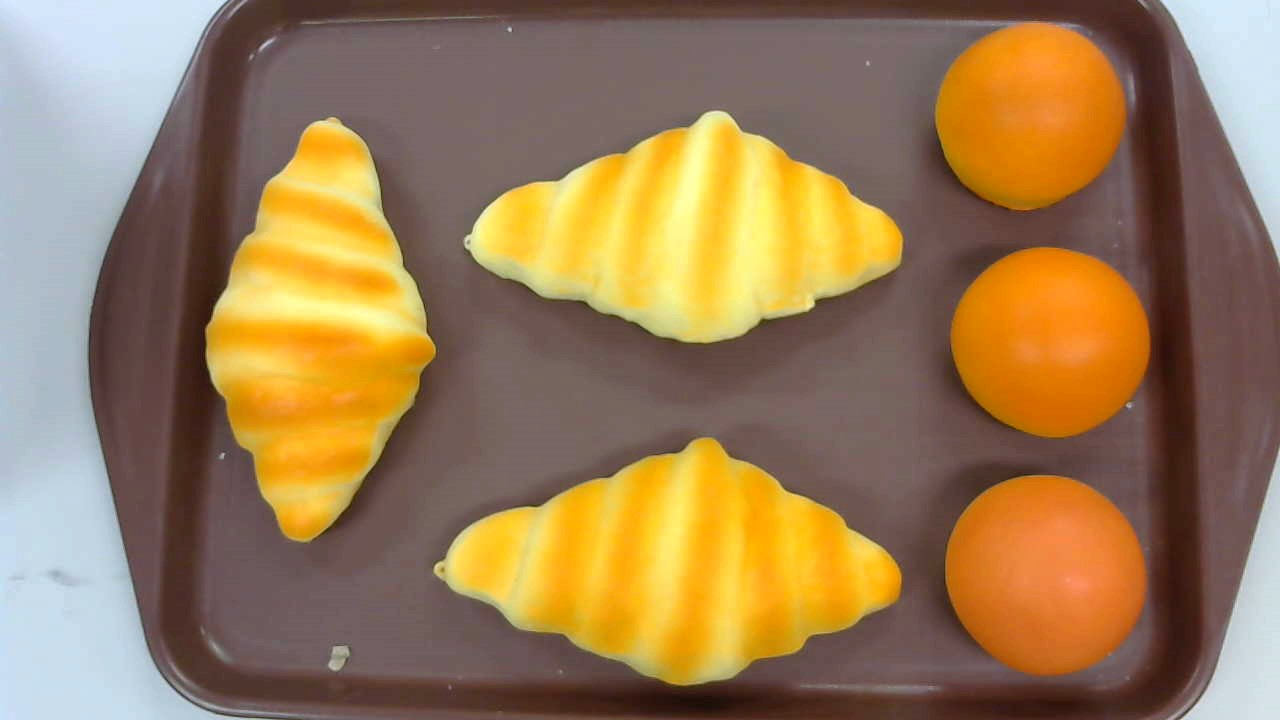bun: (945, 476, 1146, 678), (949, 244, 1151, 438), (935, 23, 1126, 213)
croissant: (434, 435, 903, 686), (461, 108, 905, 344), (205, 116, 436, 543)
